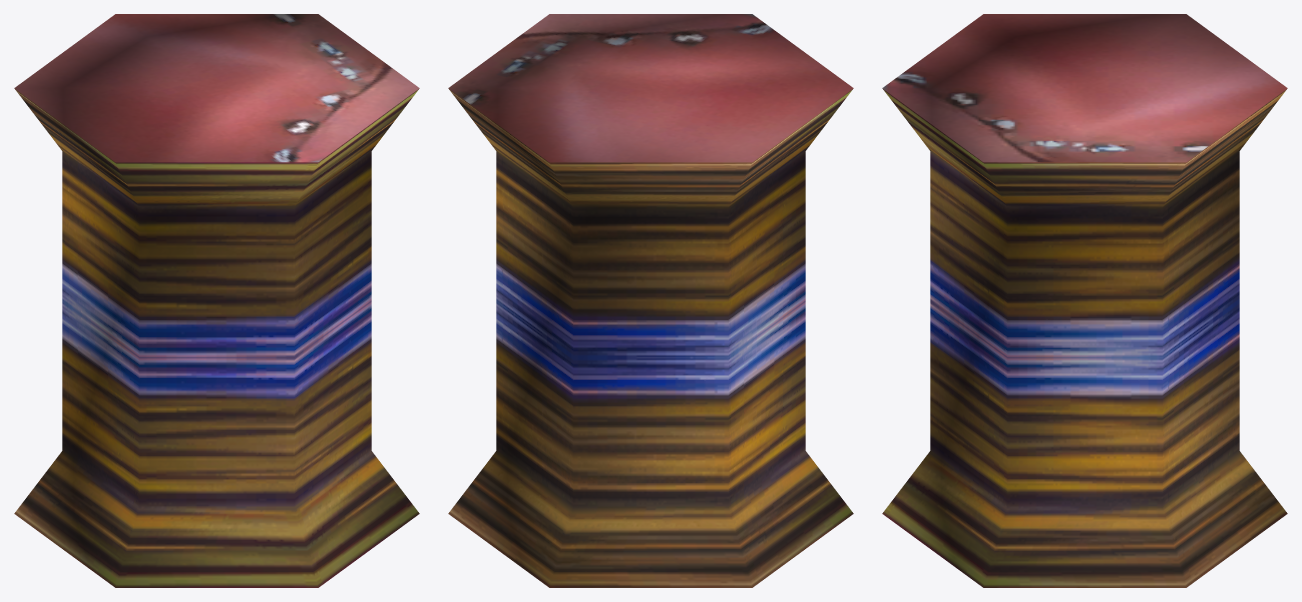
File: clothspoolbluelow.obj
3 views of the same model, side by side, from view 1: azimuth 30°, elevation 25°; view 2: azimuth 150°, elevation 25°; view 3: azimuth 270°, elevation 25° (orthographic).
Parts seen in each view (by area): view 1: clothspoolbluelow; view 2: clothspoolbluelow; view 3: clothspoolbluelow.
Boxes of the visible parts, x1,y1,x2,y2 form: clothspoolbluelow: (14, 14, 419, 587); clothspoolbluelow: (448, 14, 853, 587); clothspoolbluelow: (882, 14, 1287, 587).
Size of the model in its own units: 0.1862 by 0.2489 by 0.215.
1 material, 1 textured.
